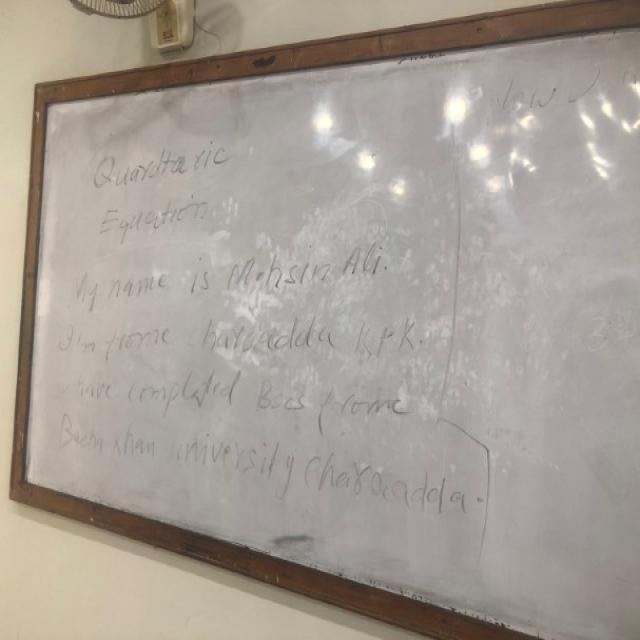White-board: (17, 20, 640, 640)
